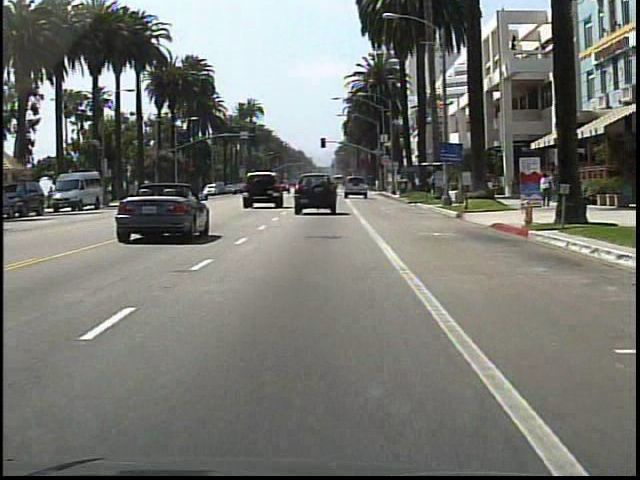person: (538, 171, 553, 210)
